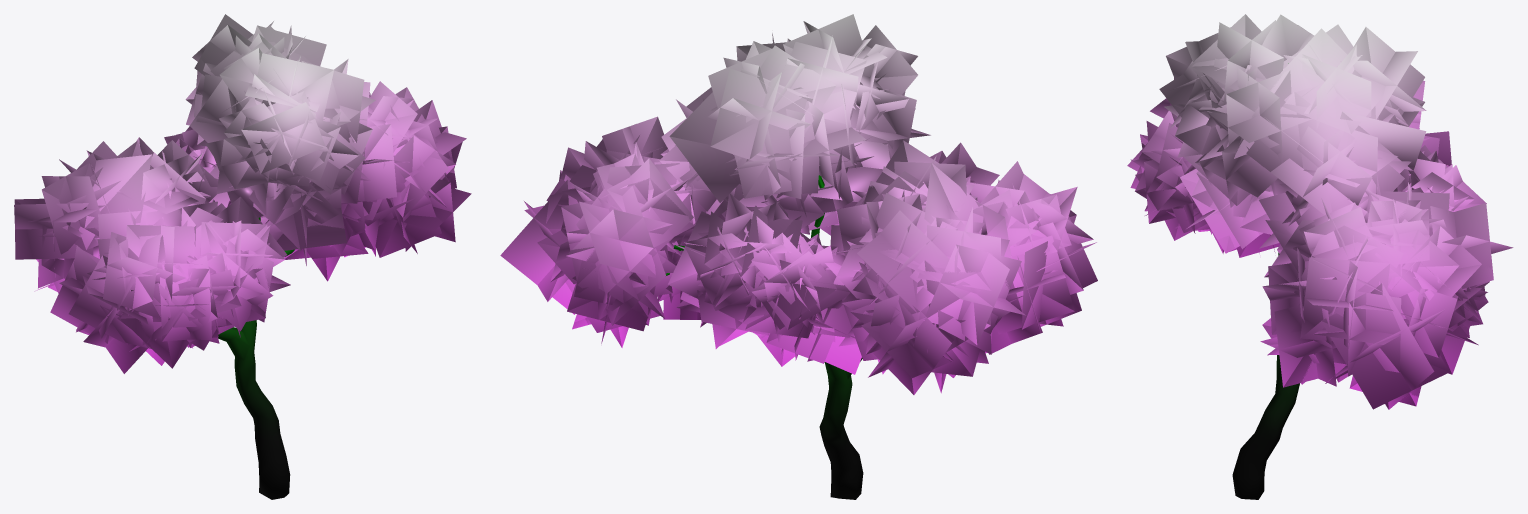
File: TSI_Blossom_Tree_03A.fbx
3 renders of one model, left to right at view 1: azimuth 30°, elevation 25°; view 2: azimuth 150°, elevation 25°; view 3: azimuth 270°, elevation 25°, orthographic. The views are drawn at different scales.
Visible parts, largest first — view 1: TSI_Blossom_Tree_03A_LOD0; view 2: TSI_Blossom_Tree_03A_LOD0; view 3: TSI_Blossom_Tree_03A_LOD0.
Boxes of the visible parts, box(x1,y1,x2,y2) form: TSI_Blossom_Tree_03A_LOD0: box(14, 14, 471, 499); TSI_Blossom_Tree_03A_LOD0: box(500, 14, 1097, 499); TSI_Blossom_Tree_03A_LOD0: box(1127, 14, 1513, 499).
Size of the model in its own units: 1057 by 967 by 707.
